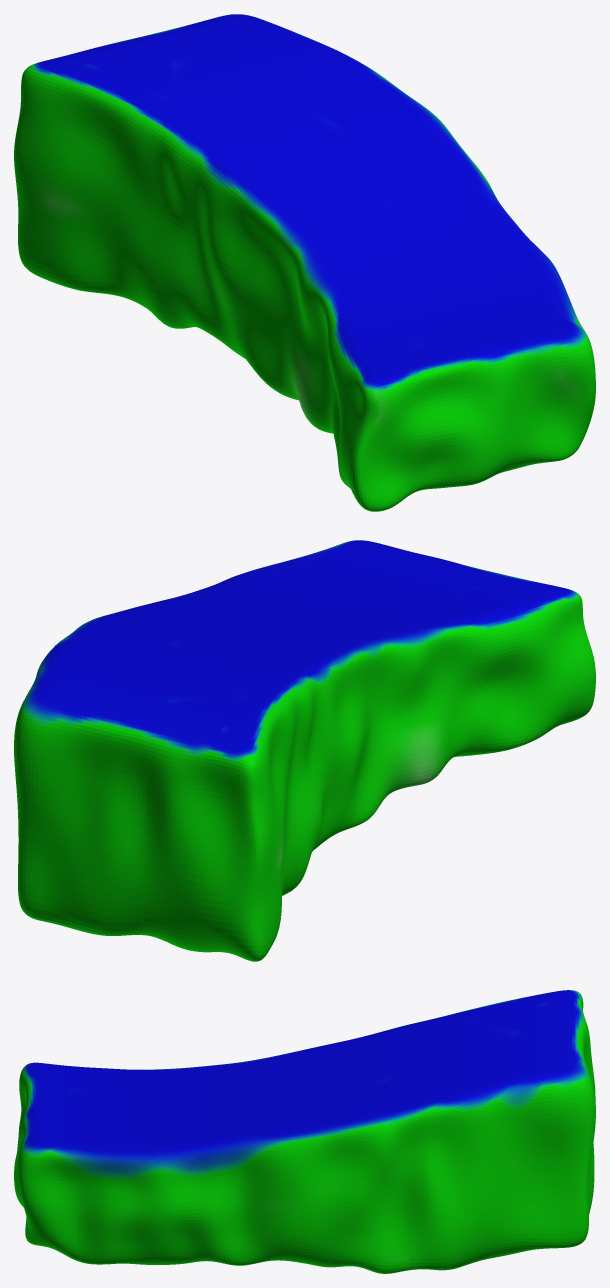
File: level_one_vine_barrier_2.fbx
The picture shows the model from 3 angles, top to bottom: view 1: azimuth 30°, elevation 25°; view 2: azimuth 150°, elevation 25°; view 3: azimuth 270°, elevation 25°; orthographic projection. The views are drawn at different scales.
Visible parts, largest first — view 1: VineBarrier02; view 2: VineBarrier02; view 3: VineBarrier02.
Part boxes in pixels (x1,y1,x2,y2): VineBarrier02: (14,14,595,511); VineBarrier02: (14,540,595,961); VineBarrier02: (14,990,595,1273).
Size of the model in its own units: 2438 by 1664 by 4808.
